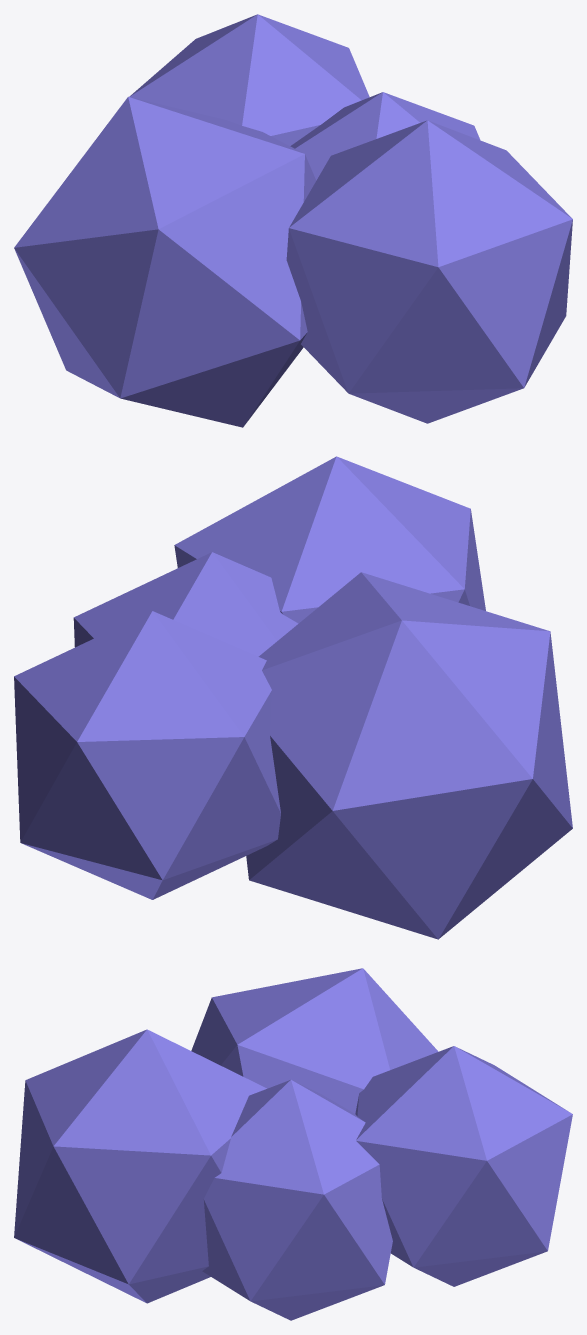
Rendered from Bush.fbx.
3 renders of one model, top to bottom at view 1: azimuth 30°, elevation 25°; view 2: azimuth 150°, elevation 25°; view 3: azimuth 270°, elevation 25°, orthographic. The views are drawn at different scales.
Visible parts, largest first — view 1: Bush; view 2: Bush; view 3: Bush.
Part boxes in pixels (<box>): Bush: <box>14,14,572,427</box>; Bush: <box>14,456,572,939</box>; Bush: <box>14,968,572,1320</box>.
Size of the model in its own units: 159 by 111 by 192.
